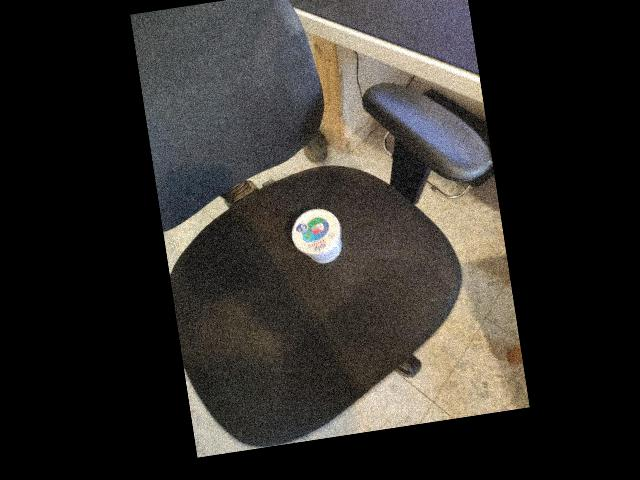cotage: (278, 202, 349, 280)
